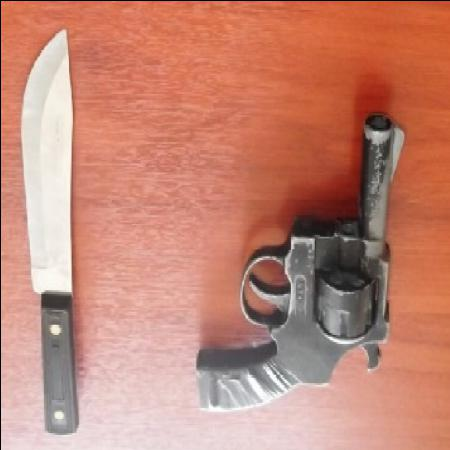long weapon: (15, 18, 76, 341)
